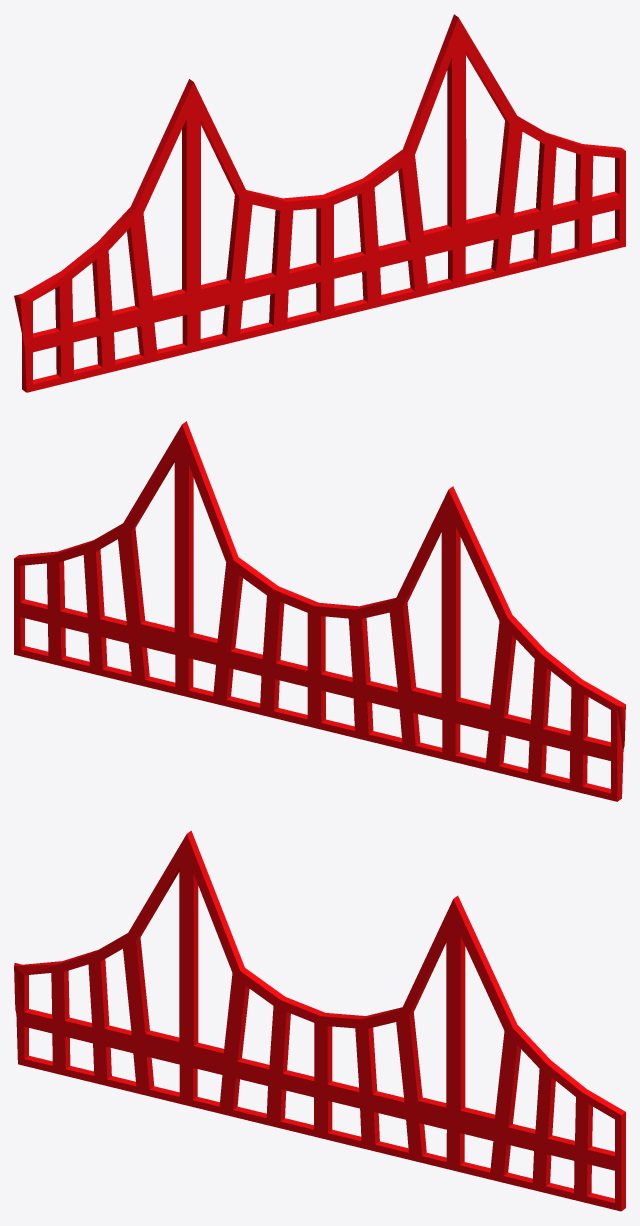
File: MOD_KitPontA.FBX
The picture shows the model from 3 angles, top to bottom: view 1: azimuth 30°, elevation 25°; view 2: azimuth 150°, elevation 25°; view 3: azimuth 330°, elevation 25°; orthographic projection.
Parts seen in each view (by area): view 1: Pont_JC; view 2: Pont_JC; view 3: Pont_JC.
Boxes of the visible parts, left/top/right/bottom form: Pont_JC: left=14, top=14, right=625, bottom=392; Pont_JC: left=14, top=421, right=625, bottom=801; Pont_JC: left=14, top=830, right=625, bottom=1211.
Size of the model in its own units: 152 by 64.51 by 2.11.
